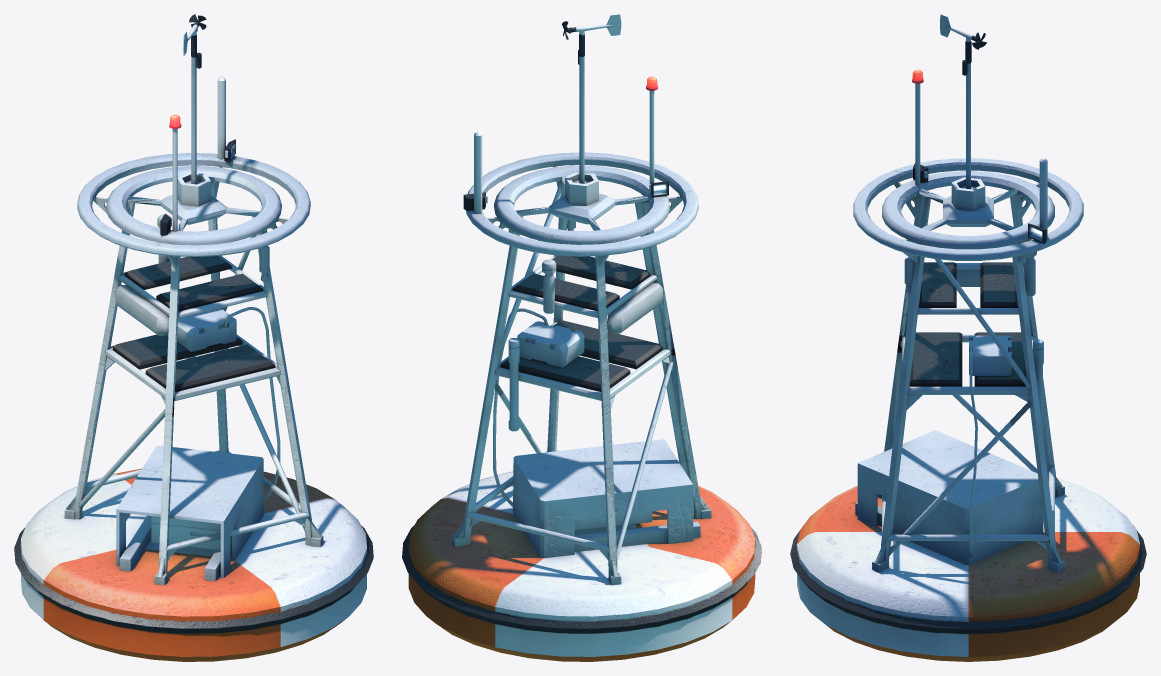
Rendered from dart_tsunami_buoy.glb.
3 views of the same model, side by side, from view 1: azimuth 30°, elevation 25°; view 2: azimuth 150°, elevation 25°; view 3: azimuth 270°, elevation 25° (orthographic).
Visible parts, largest first — view 1: tsunami_buoy; view 2: tsunami_buoy; view 3: tsunami_buoy.
Boxes of the visible parts, x1,y1,x2,y2 form: tsunami_buoy: (14,14,373,661); tsunami_buoy: (402,14,761,661); tsunami_buoy: (790,14,1146,661).
Size of the model in its own units: 297 by 529 by 297.
Materials: 1 (1 with a texture image).
